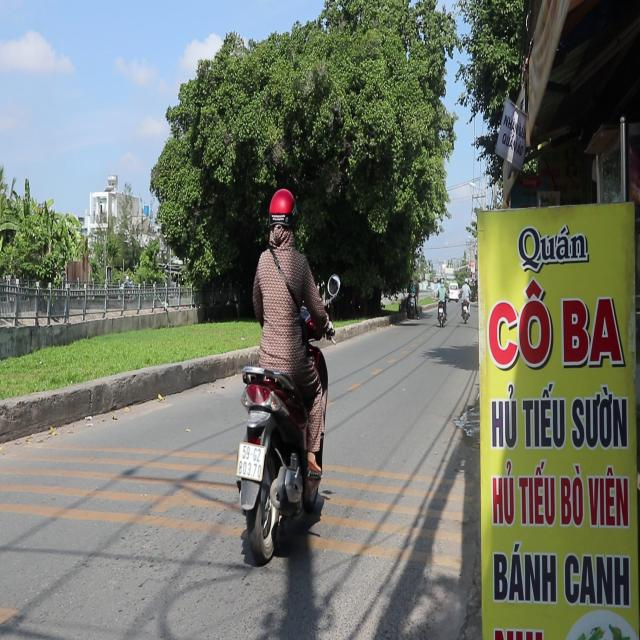helmet: (267, 186, 296, 246)
licenseplate: (232, 181, 332, 562)
nohelmet: (236, 442, 264, 481)
